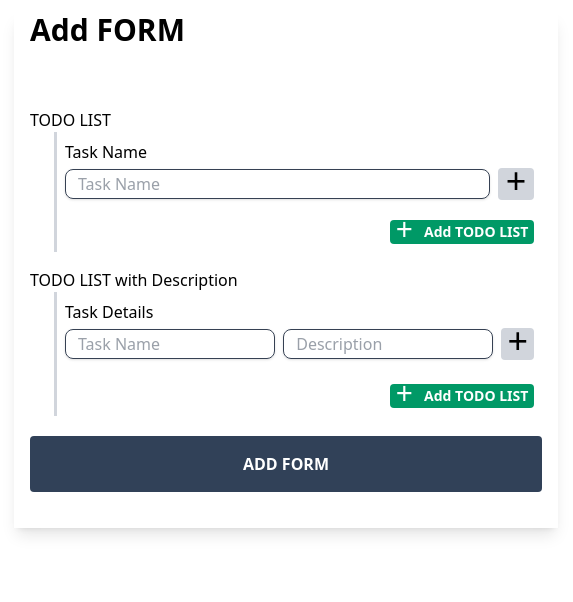
Test: App Component › Detailed Todo List › should add a new detailed todo when clicking + button
The image size is (573, 602).
Step 1. Type "Test Task" into the field with placeholder "Task Name" below "Task Details" → (170, 344), box [65,329,275,359]
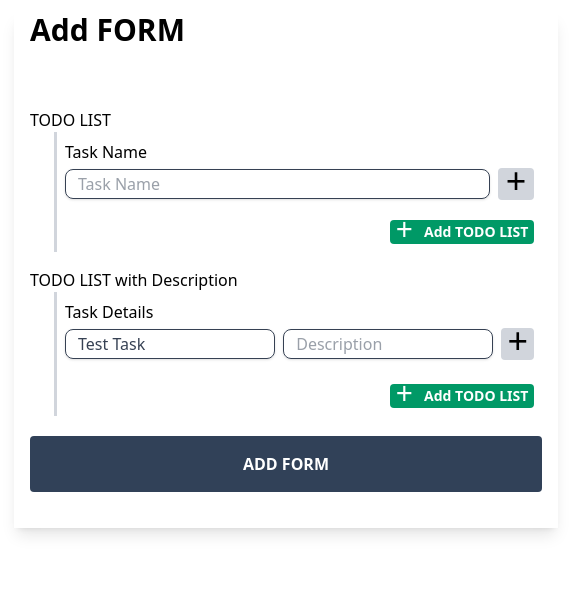
Step 2. Type "Test Description" into the field with placeholder "Description" → (388, 344), box [283,329,493,359]
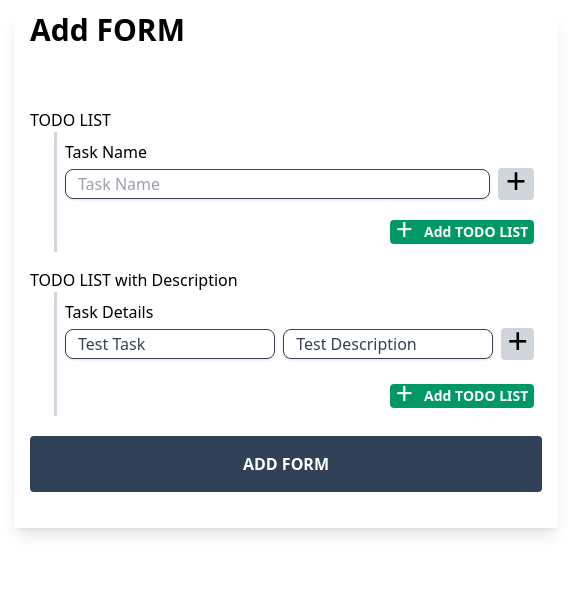
Step 3. Click the button with test id "add-initial-detailed" → (518, 344), box [501,328,534,360]
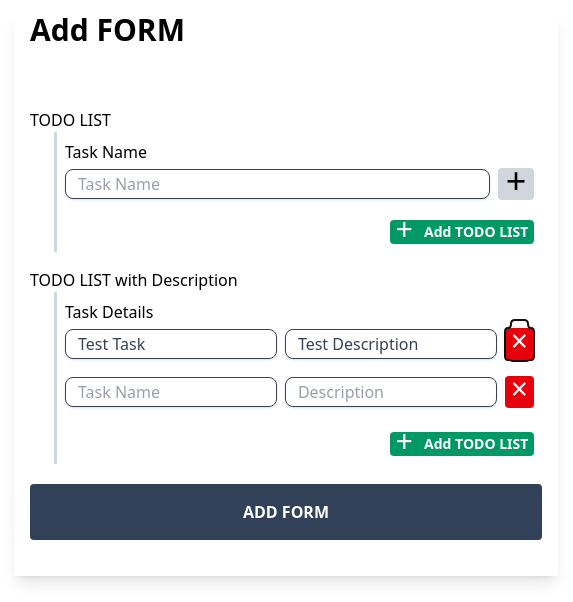
Now the number of fields with placeholder "Task Name" is 3, box [65,169,490,199]; [65,329,277,359]; [65,377,277,407]
Now the number of fields with placeholder "Description" is 2, box [285,329,497,359]; [285,377,497,407]
